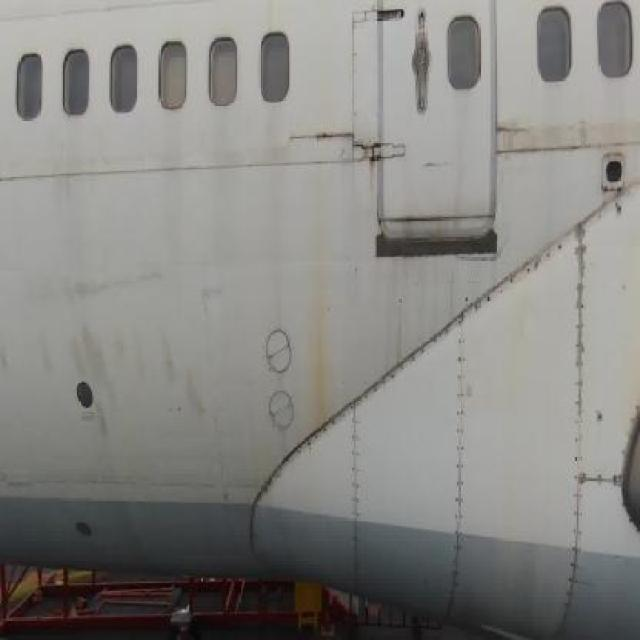Missing-Rivet: (565, 221, 587, 625), (472, 242, 565, 322), (370, 326, 450, 406), (450, 306, 472, 594), (289, 412, 346, 478), (349, 394, 366, 578), (592, 463, 620, 508)
Rust: (299, 235, 346, 430)
Scartch: (1, 318, 207, 477), (47, 258, 171, 311), (497, 119, 595, 168), (197, 265, 226, 312)
